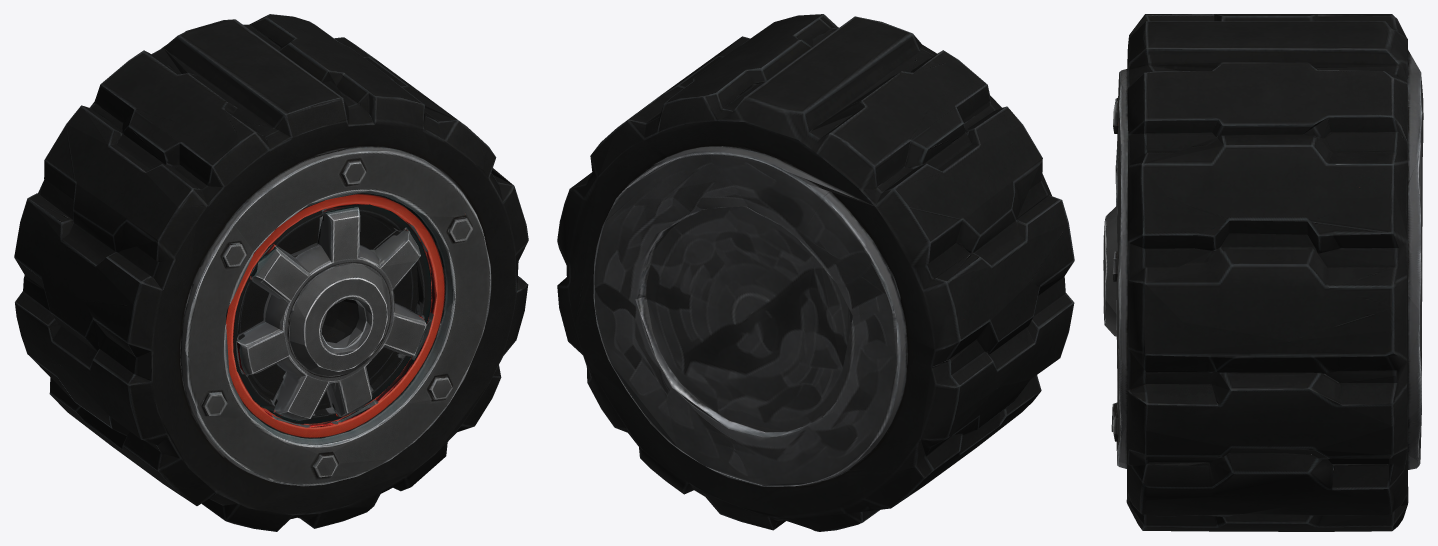
Rendered from wheel_heavy.glb.
3 renders of one model, left to right at view 1: azimuth 30°, elevation 25°; view 2: azimuth 150°, elevation 25°; view 3: azimuth 270°, elevation 25°, orthographic. The views are drawn at different scales.
Parts seen in each view (by area): view 1: output_unwrapped; view 2: output_unwrapped; view 3: output_unwrapped.
Boxes of the visible parts, x1,y1,x2,y2 form: output_unwrapped: (14,14,528,531); output_unwrapped: (557,14,1074,531); output_unwrapped: (1103,14,1423,531).
Size of the model in its own units: 1.99 by 2 by 1.24.
1 material, 1 textured.
